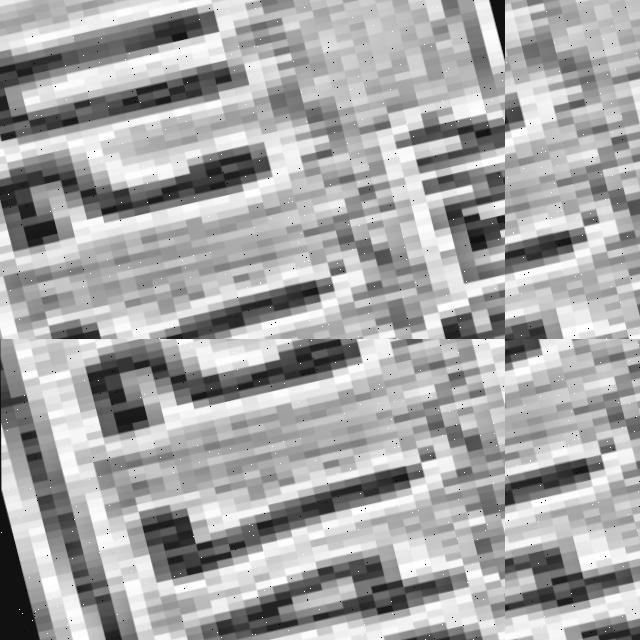license-plate: (0, 0, 505, 339), (0, 339, 505, 640), (505, 0, 640, 339), (505, 339, 640, 640)
